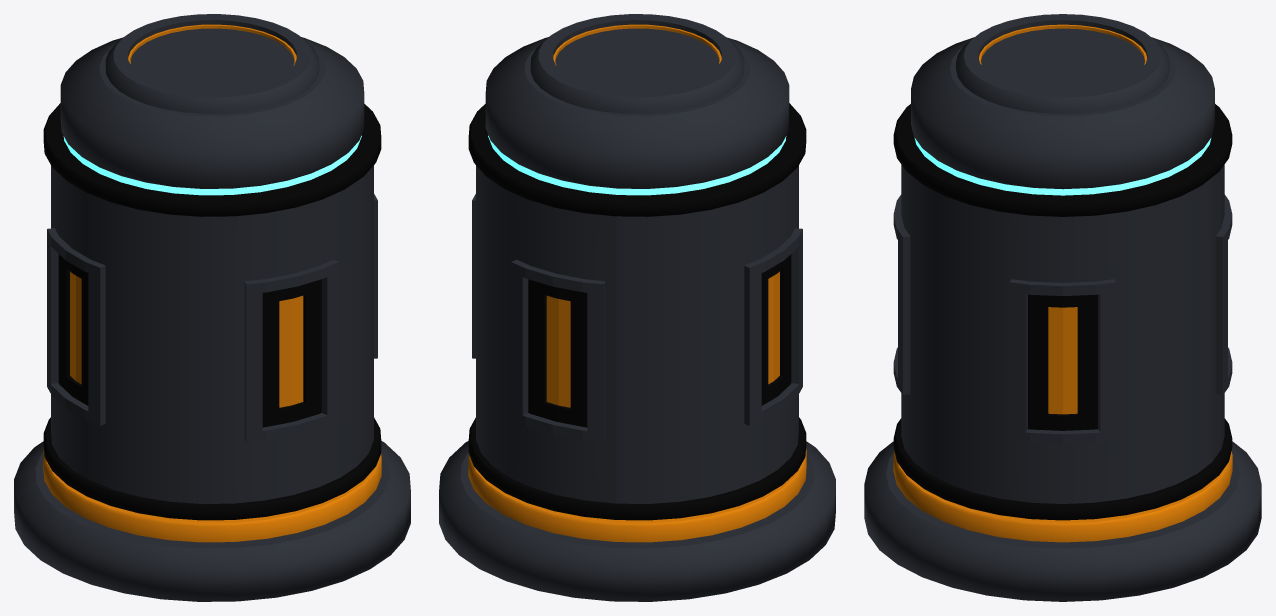
Rendered from SM_Capacitor.fbx.
3 renders of one model, left to right at view 1: azimuth 30°, elevation 25°; view 2: azimuth 150°, elevation 25°; view 3: azimuth 270°, elevation 25°, orthographic.
Parts seen in each view (by area): view 1: SM_Capacitor; view 2: SM_Capacitor; view 3: SM_Capacitor.
Part boxes in pixels (x1=…): SM_Capacitor: x1=14, y1=14, x2=410, y2=601; SM_Capacitor: x1=439, y1=14, x2=835, y2=601; SM_Capacitor: x1=864, y1=14, x2=1261, y2=601.
Bounding box in the file's own units: 100 × 128 × 100.
